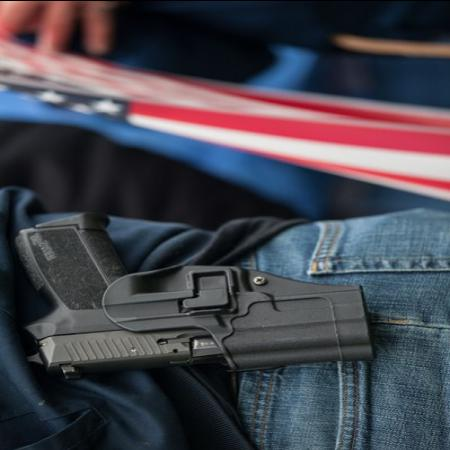Pistol: (13, 208, 389, 387)
